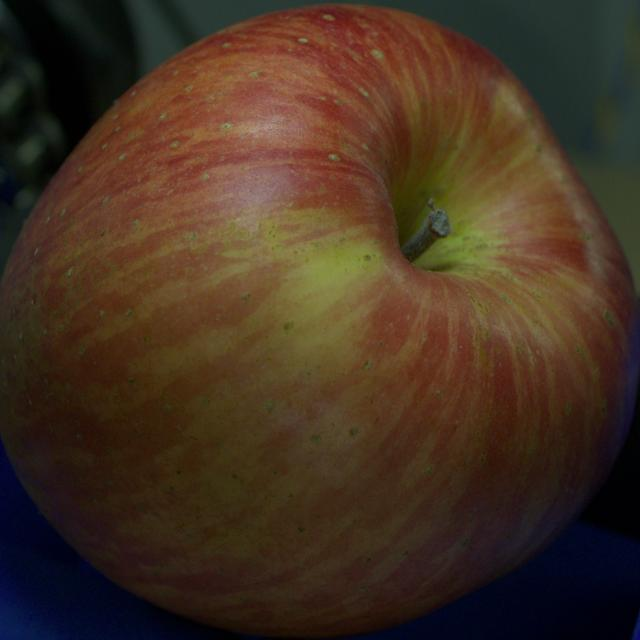apple: (0, 6, 639, 637)
